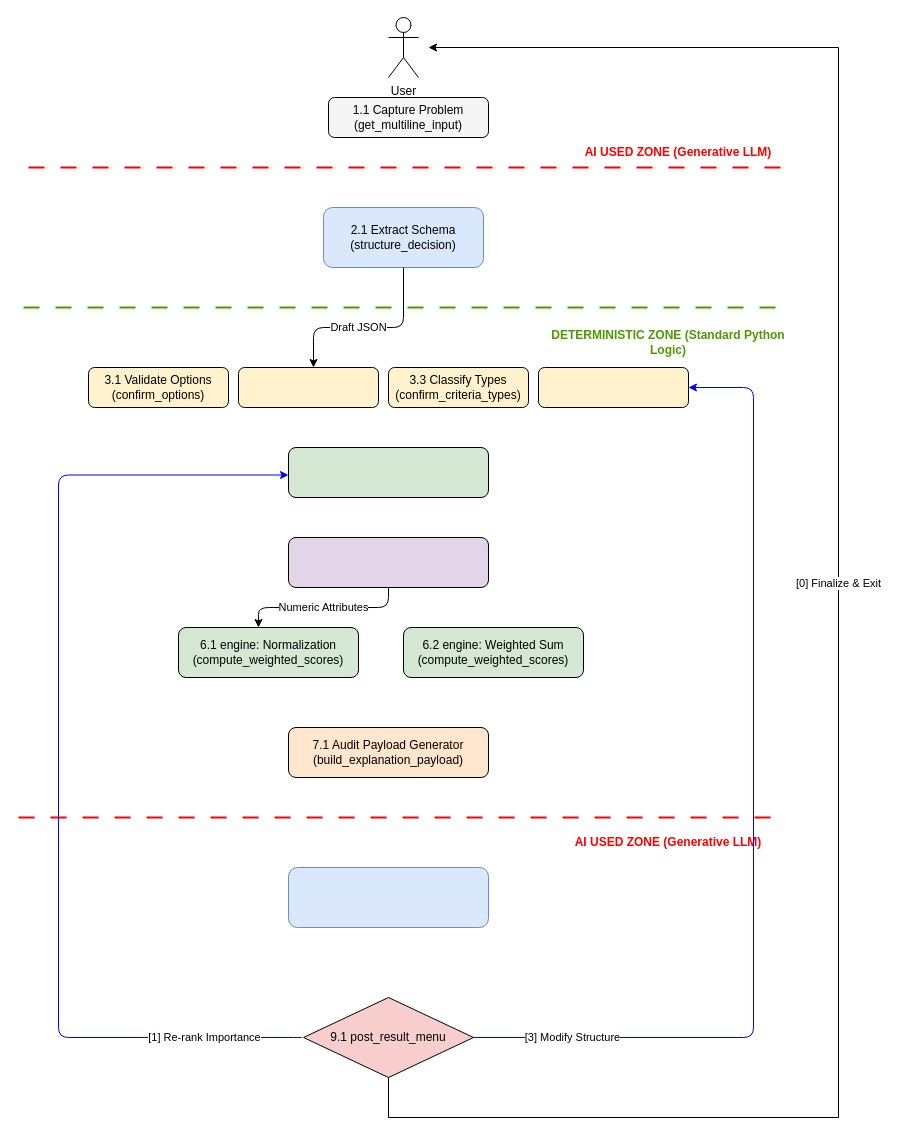
This 898x1143 diagram has some shape labels left out. The box of each missing label's shape, as (x1, y1, x2, y2) in pixels:
3.2 Define Criteria (confirm_criteria): (238, 366, 378, 408)
3.4 Map Ordinal Scales (confirm_ordinal_scales): (538, 366, 688, 408)
4.1 Importance Weighting (get_weights_from_ranking): (288, 446, 488, 498)
5.1 Descriptor-to-Numeric (map_attributes): (288, 536, 488, 588)
8.1 Natural Language Narrative (render_explanation): (288, 866, 488, 928)
